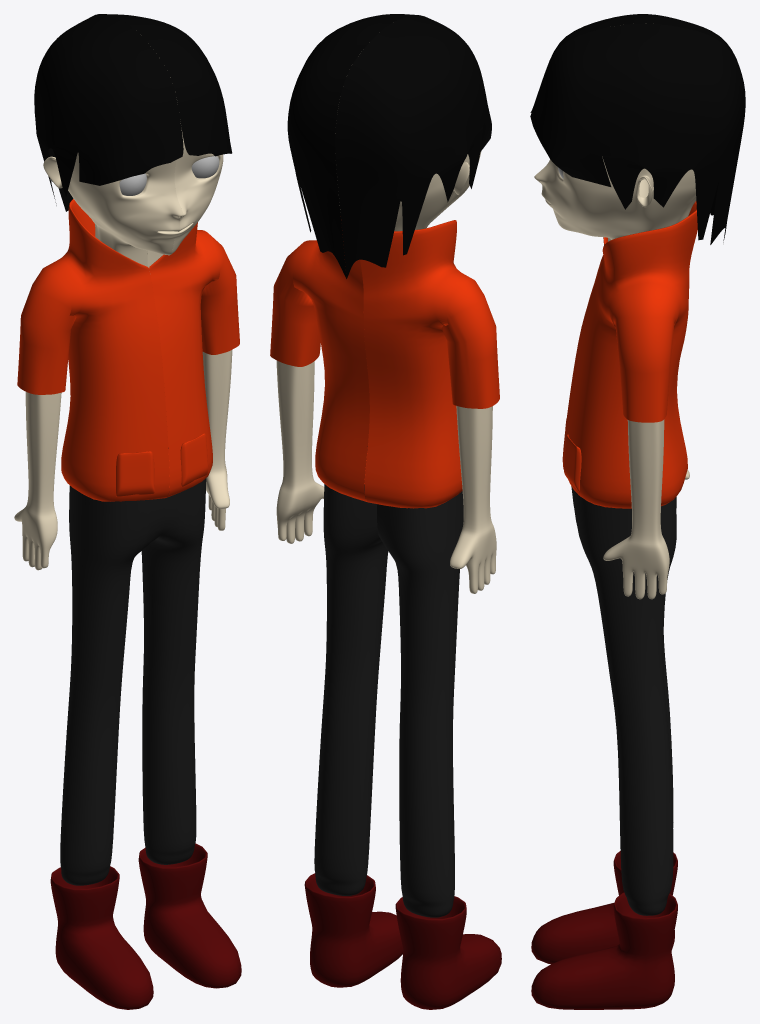
File: people.fbx
3 renders of one model, left to right at view 1: azimuth 30°, elevation 25°; view 2: azimuth 150°, elevation 25°; view 3: azimuth 270°, elevation 25°, orthographic. The views are drawn at different scales.
Visible parts, largest first — view 1: polySurface3, pCube21, pCube25, pCube7, polySurface1, pCube23, pCube22, pCube2, pCube24, polySurface5, polySurface2, pCube1 (+2 smaller); view 2: polySurface3, pCube25, pCube21, pCube7, polySurface1, pCube24, pCube23, pCube22, polySurface2, polySurface5, pCube2; view 3: pCube24, polySurface1, pCube7, pCube22, pCube1, polySurface2, pCube23, pCube25, pCube26, pCube21.
Part boxes in pixels (x1,y1,x2,y2): polySurface3: [17, 199, 169, 501]; pCube21: [60, 485, 165, 885]; pCube25: [34, 14, 183, 211]; pCube7: [141, 448, 206, 864]; polySurface1: [149, 222, 239, 497]; pCube23: [50, 866, 153, 1009]; pCube22: [138, 843, 241, 988]; pCube2: [43, 152, 183, 266]; pCube24: [103, 14, 232, 156]; polySurface5: [14, 392, 61, 570]; polySurface2: [202, 350, 232, 530]; pCube1: [147, 77, 223, 267]; polySurface3: [360, 220, 499, 508]; pCube25: [335, 15, 491, 278]; pCube21: [377, 491, 463, 917]; pCube7: [314, 446, 388, 895]; polySurface1: [270, 230, 369, 502]; pCube24: [287, 14, 418, 278]; pCube23: [395, 896, 501, 1009]; pCube22: [304, 873, 403, 987]; polySurface2: [276, 360, 324, 543]; polySurface5: [450, 406, 496, 593]; pCube2: [394, 151, 481, 231]; pCube24: [530, 23, 745, 244]; polySurface1: [562, 210, 697, 508]; pCube7: [571, 486, 676, 915]; pCube22: [531, 892, 677, 1009]; pCube1: [534, 156, 696, 241]; polySurface2: [603, 419, 669, 599]; pCube23: [531, 851, 677, 964]; pCube25: [530, 14, 740, 239]; pCube26: [563, 434, 581, 491]; pCube21: [663, 497, 676, 827].
Bounding box in the file's own units: 11.48 × 47.89 × 9.75.
